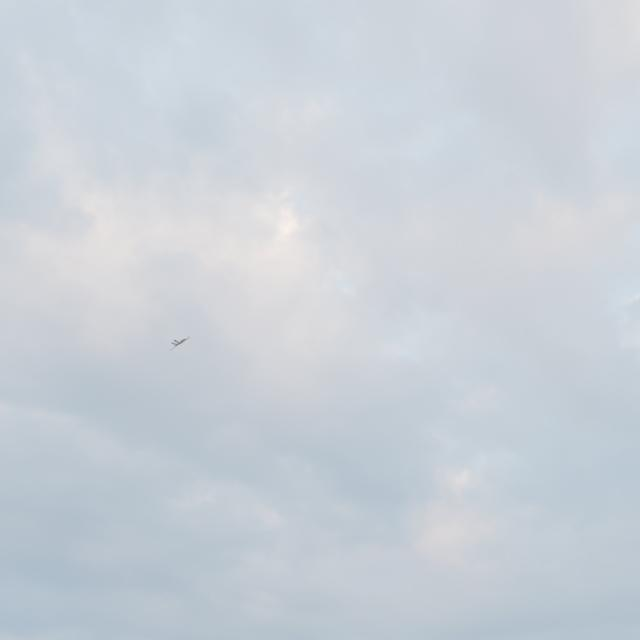Airaplan: (169, 335, 192, 352)
